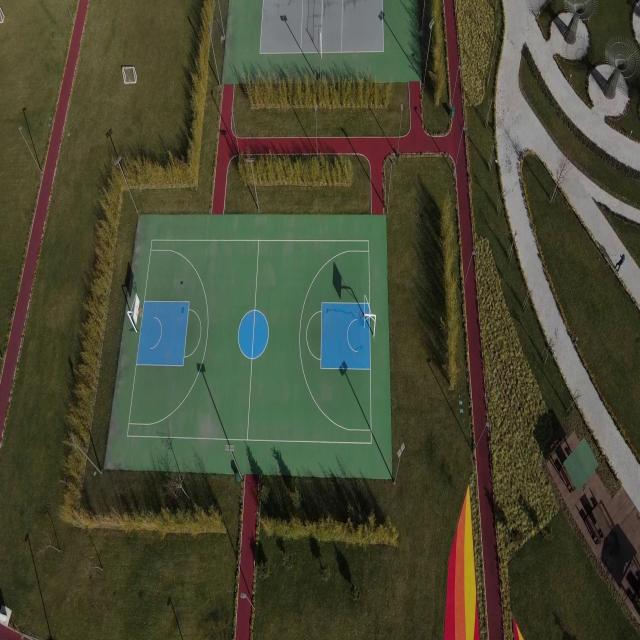p3rson: (614, 254, 625, 272)
